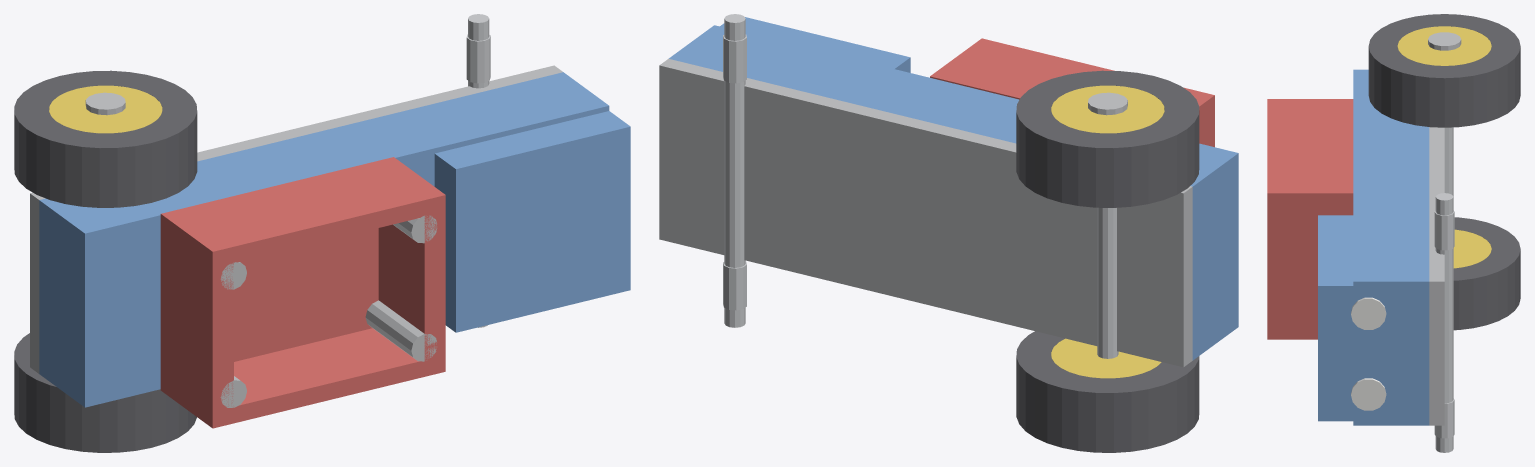
File: pupgo_car.glb
3 renders of one model, left to right at view 1: azimuth 30°, elevation 25°; view 2: azimuth 150°, elevation 25°; view 3: azimuth 270°, elevation 25°, orthographic. The views are drawn at different scales.
Visible parts, largest first — view 1: plastic_blue, plastic_red, rubber, plastic_gray, tool_yellow, steel; view 2: plastic_gray, rubber, plastic_blue, steel, tool_yellow, plastic_red; view 3: plastic_blue, rubber, plastic_red, plastic_gray, steel, tool_yellow, white_plastic.
Part boxes in pixels (<box>): plastic_blue: <box>39,72,630,407</box>; plastic_red: <box>160,157,445,428</box>; rubber: <box>14,70,197,452</box>; plastic_gray: <box>30,65,562,407</box>; tool_yellow: <box>49,85,162,133</box>; steel: <box>466,14,490,327</box>; plastic_gray: <box>659,58,1192,367</box>; rubber: <box>1016,70,1199,452</box>; plastic_blue: <box>669,17,1238,360</box>; steel: <box>723,14,1118,358</box>; tool_yellow: <box>1051,85,1164,378</box>; plastic_red: <box>930,38,1214,147</box>; plastic_blue: <box>1318,69,1429,425</box>; rubber: <box>1368,14,1520,330</box>; plastic_red: <box>1267,99,1353,339</box>; plastic_gray: <box>1428,32,1461,425</box>; steel: <box>1434,127,1454,452</box>; tool_yellow: <box>1397,26,1491,268</box>; white_plastic: <box>1351,297,1386,410</box>.
Size of the model in its own units: 0.2005 by 0.116 by 0.1.
